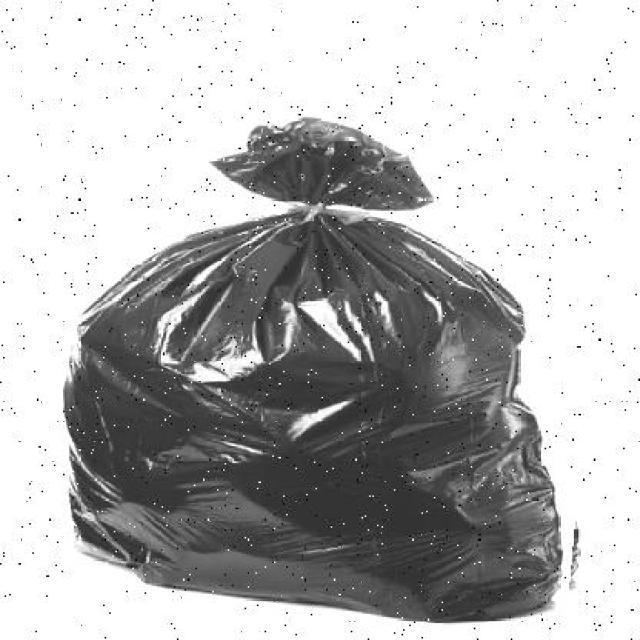KantongPlastik: (61, 115, 564, 622)
